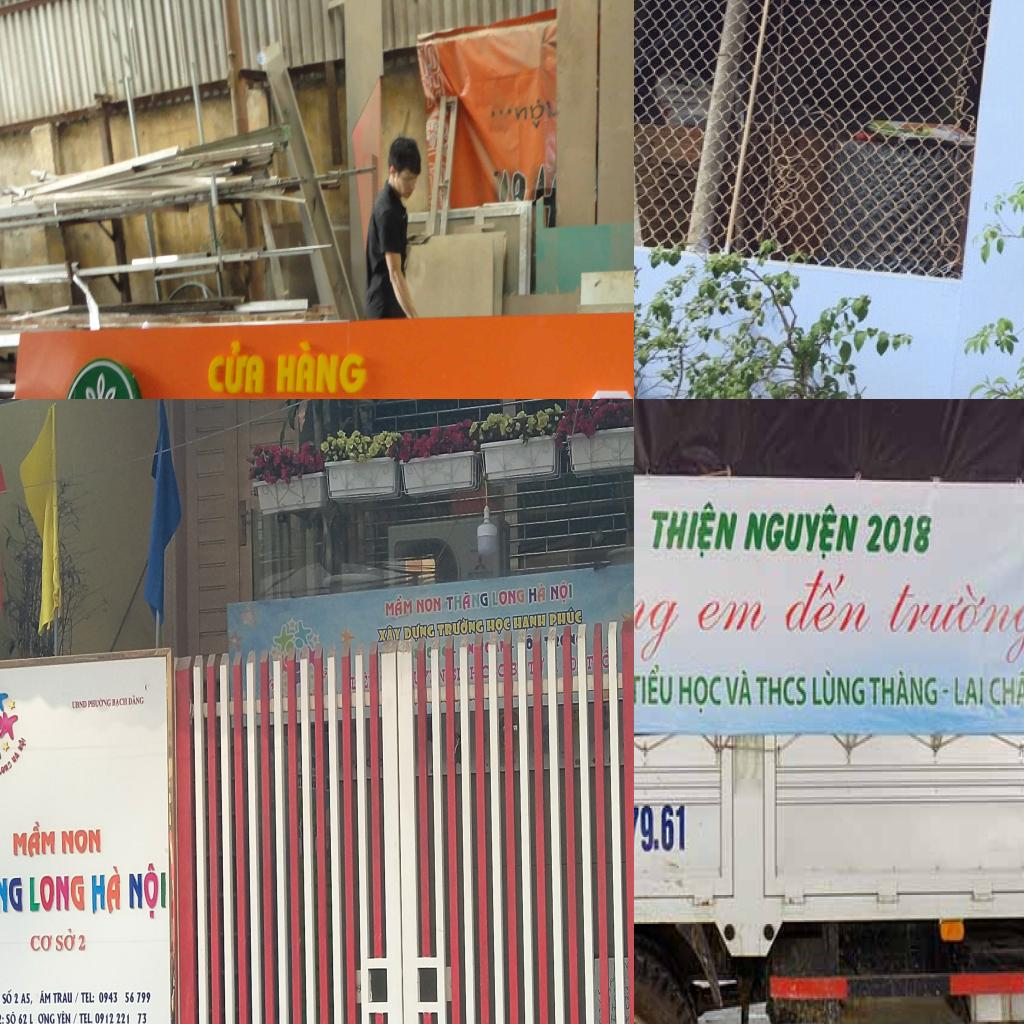text: (882, 579, 1024, 664), (744, 502, 864, 562), (783, 563, 877, 634), (650, 496, 741, 562), (634, 550, 686, 664), (275, 339, 370, 393), (205, 340, 268, 395), (865, 666, 940, 712), (695, 596, 773, 636), (864, 513, 935, 556), (128, 858, 166, 921), (811, 665, 866, 708), (28, 875, 86, 913), (676, 674, 722, 717), (634, 661, 675, 708), (756, 674, 808, 710), (89, 862, 122, 918), (12, 821, 56, 858), (988, 668, 1024, 708), (724, 667, 755, 708), (952, 674, 987, 710), (435, 615, 484, 640), (0, 870, 24, 919), (444, 588, 488, 614), (60, 828, 102, 855), (490, 586, 526, 610), (548, 604, 583, 628), (402, 620, 437, 643), (383, 593, 413, 619), (511, 612, 547, 632), (549, 578, 574, 605), (376, 623, 404, 645), (484, 614, 512, 635), (526, 580, 548, 606), (55, 925, 76, 952), (414, 596, 442, 615), (94, 1010, 130, 1024), (29, 932, 53, 952), (123, 991, 152, 1004), (52, 990, 73, 1004), (87, 696, 111, 708), (97, 991, 119, 1004), (127, 693, 145, 707), (16, 734, 28, 754), (0, 759, 13, 777), (37, 1011, 55, 1024), (602, 643, 610, 670), (20, 991, 34, 1006), (56, 1010, 71, 1024), (70, 699, 88, 710), (39, 990, 52, 1005), (80, 992, 96, 1004), (584, 653, 594, 672), (2, 988, 12, 1006), (78, 1012, 93, 1024), (10, 750, 21, 766), (112, 697, 128, 708), (77, 933, 86, 952), (135, 1011, 147, 1024), (5, 1010, 16, 1024), (482, 662, 490, 680), (496, 661, 504, 679), (512, 660, 518, 678), (18, 1012, 27, 1024), (528, 660, 534, 676), (456, 664, 461, 681), (13, 991, 19, 1005), (28, 1012, 34, 1024), (0, 1011, 4, 1024)
